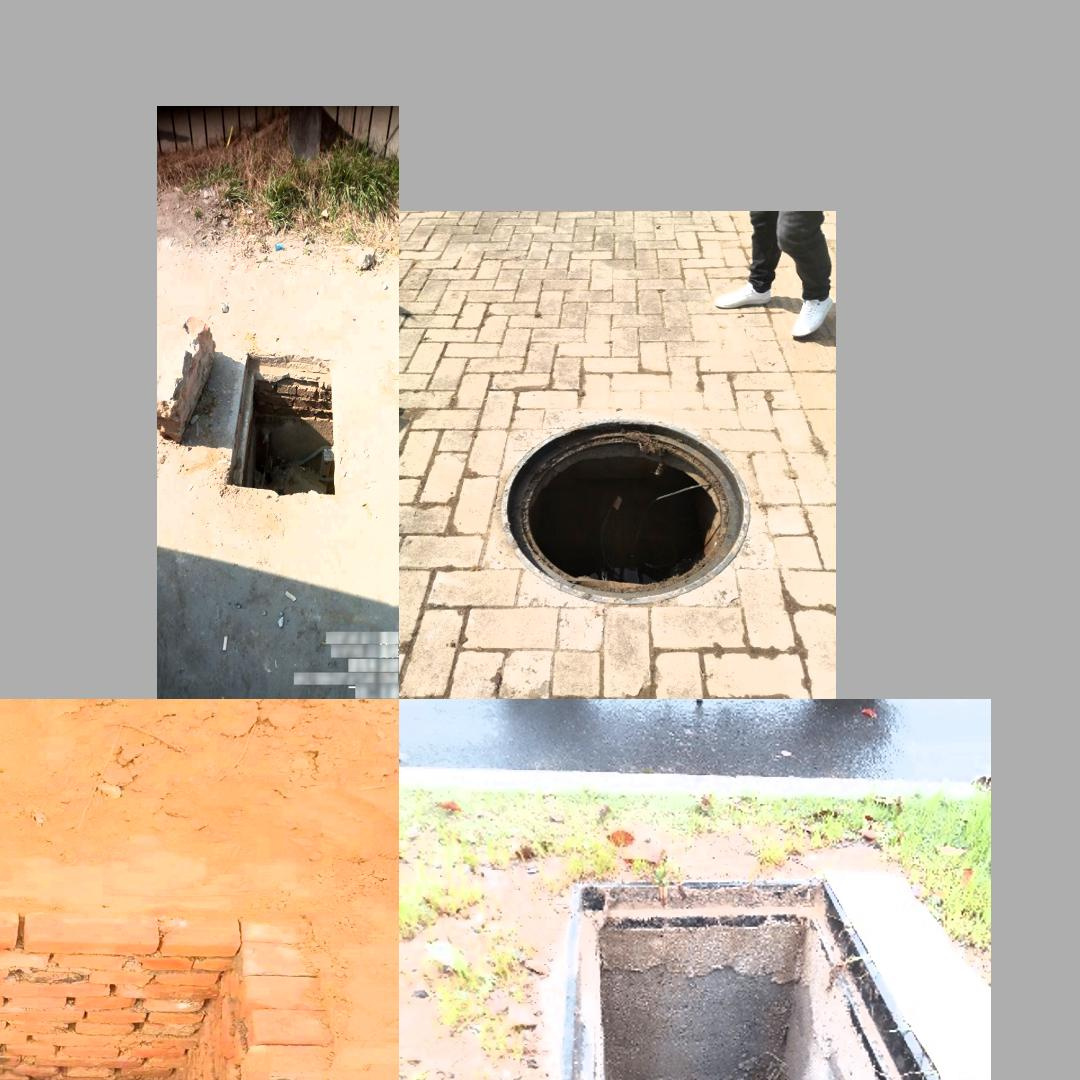lose: (538, 873, 991, 1080), (500, 417, 750, 603), (0, 937, 315, 1080), (213, 335, 359, 512)
